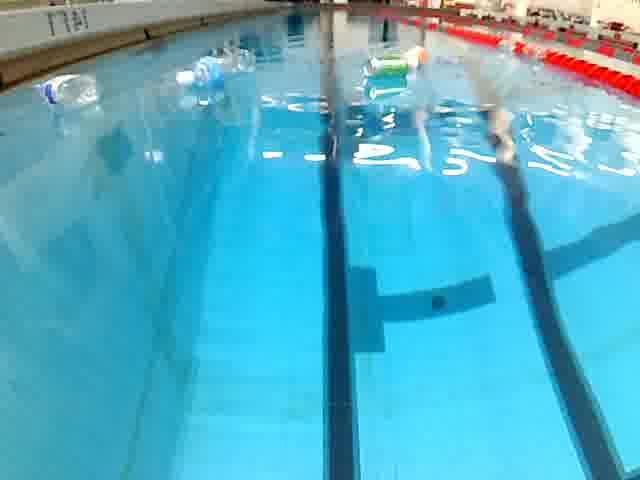Bottle: (170, 44, 262, 95), (33, 69, 108, 116), (397, 41, 433, 72)
Can: (357, 50, 413, 85)
